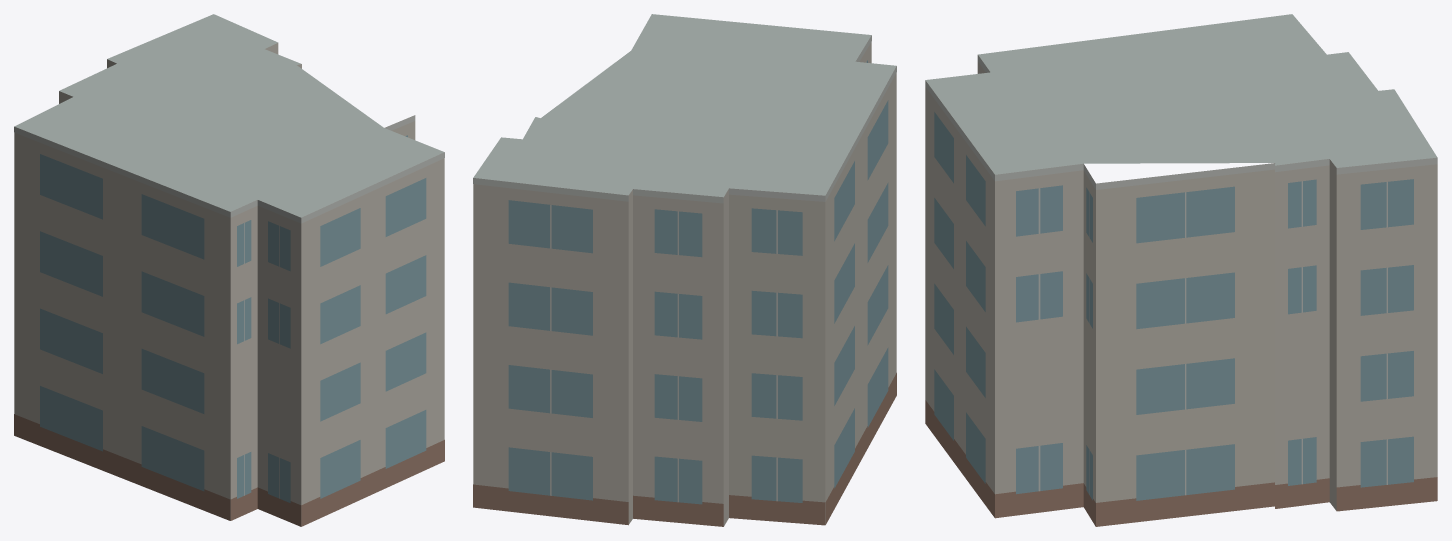
The model's file is survey-upis-32795196.glb.
The picture shows the model from 3 angles, left to right: view 1: azimuth 30°, elevation 25°; view 2: azimuth 150°, elevation 25°; view 3: azimuth 270°, elevation 25°; orthographic projection. The views are drawn at different scales.
Parts seen in each view (by area): view 1: survey-upis-32795196.tmp; view 2: survey-upis-32795196.tmp; view 3: survey-upis-32795196.tmp.
Part boxes in pixels (x1=…): survey-upis-32795196.tmp: x1=14, y1=14, x2=444, y2=526; survey-upis-32795196.tmp: x1=473, y1=14, x2=896, y2=526; survey-upis-32795196.tmp: x1=925, y1=14, x2=1437, y2=526.
Bounding box in the file's own units: 13.56 × 12.8 × 17.32.
